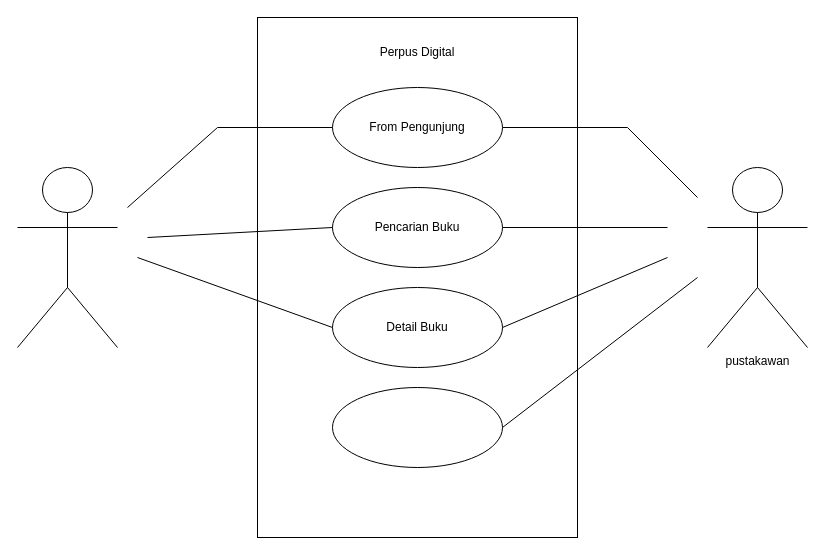
The diagram is 825 pixels wide and 555 high, and some of its shapes have lost their labels. The shapes that lost their labels are listed below. From the top down, each one's box as (x1, y1, x2, y2) in pixels, then its label:
(16, 166, 118, 348): pengujung
(332, 386, 502, 468): Laporan Statistik
